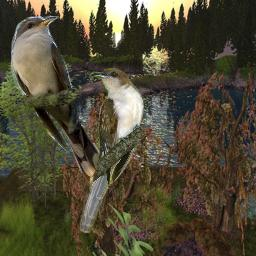Cuckoo: (11, 16, 113, 187), (79, 68, 145, 233)
